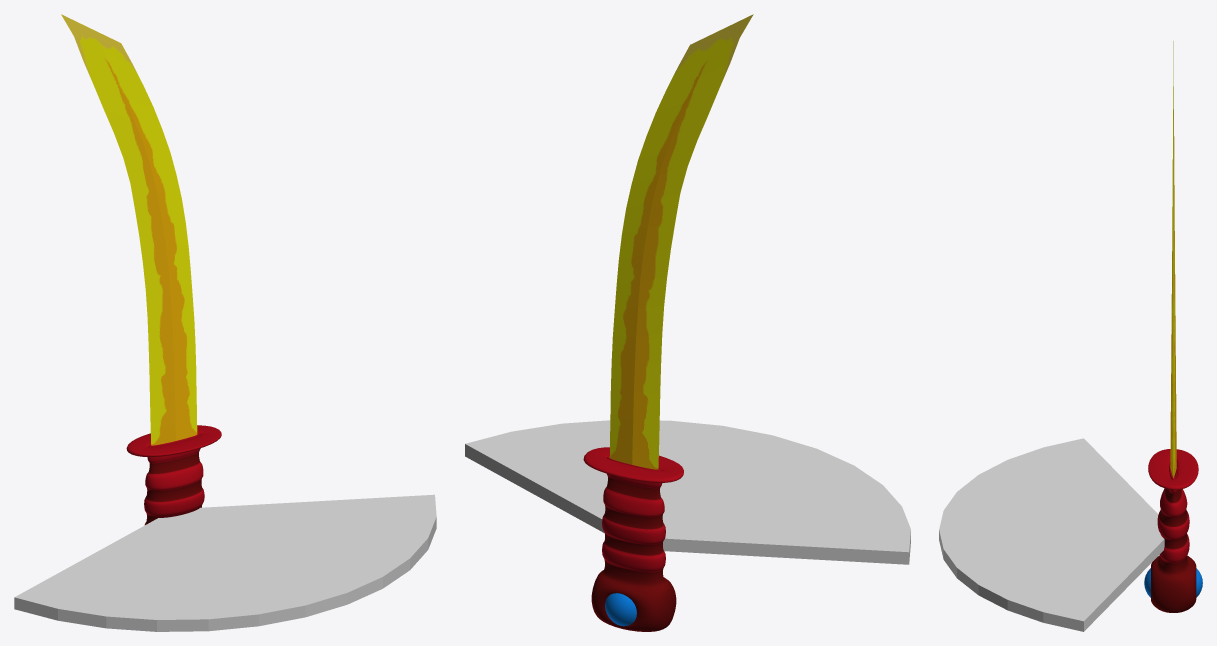
Rendered from katana.glb.
3 renders of one model, left to right at view 1: azimuth 30°, elevation 25°; view 2: azimuth 150°, elevation 25°; view 3: azimuth 270°, elevation 25°, orthographic. The views are drawn at different scales.
Parts seen in each view (by area): view 1: Circle, Cube; view 2: Circle, Cube; view 3: Circle, Cube.
Boxes of the visible parts, x1,y1,x2,y2 form: Circle: [14, 494, 436, 631]; Cube: [61, 14, 221, 524]; Circle: [465, 420, 910, 564]; Cube: [583, 14, 753, 631]; Circle: [939, 438, 1164, 631]; Cube: [1144, 41, 1202, 612].
Size of the model in its own units: 14.78 by 20.24 by 9.
4 materials, 1 textured.
